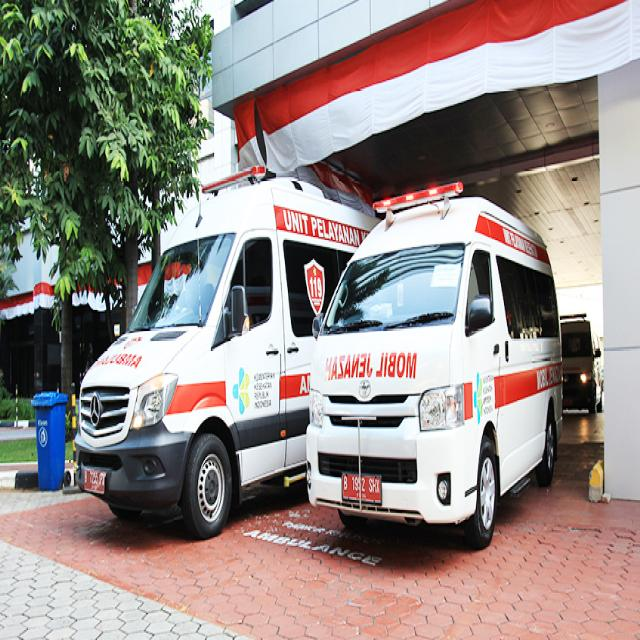ambulance: (74, 164, 383, 542), (306, 181, 564, 552)
